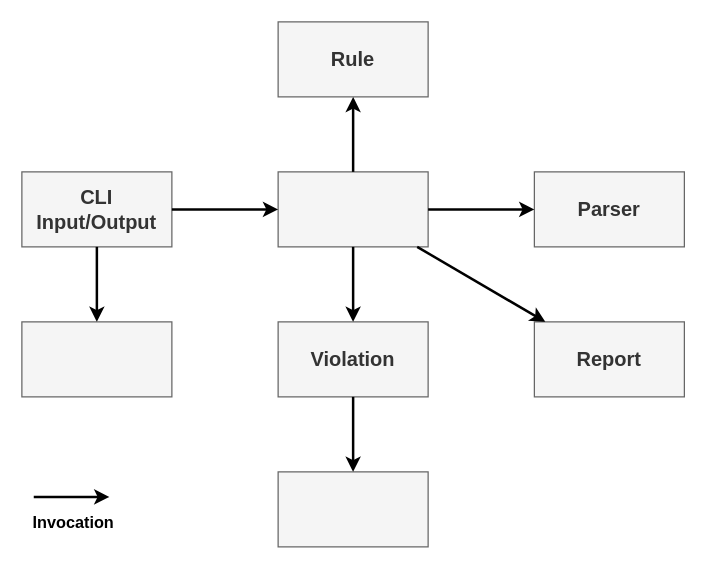
The diagram is 706 pixels wide and 569 high, and some of its shapes have lost their labels. The shapes that lost their labels are listed below. From the top down, each one's centre as x and y in pixels, then its label:
At point 352,209: "REST Analyzer".
At point 96,359: "Config".
At point 352,509: "LOC Mapper".
